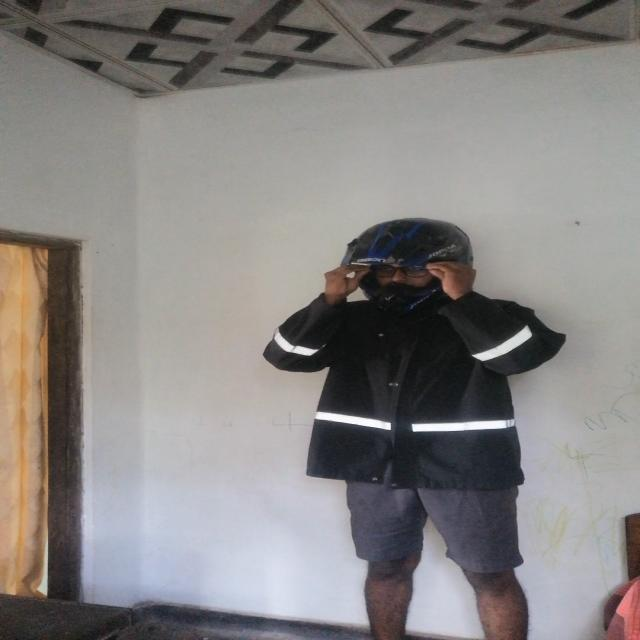Helmet_Wearer: (338, 210, 484, 300)
Jacket_Wearer: (280, 290, 571, 486)
Person: (258, 216, 558, 633)
